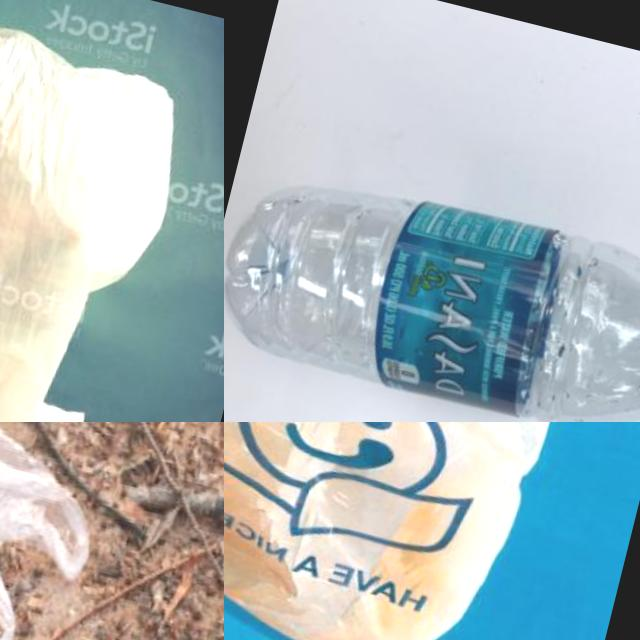garrafa plástica: (224, 147, 640, 422)
sacola plástica: (0, 0, 221, 422), (224, 422, 619, 640), (0, 422, 142, 640)
